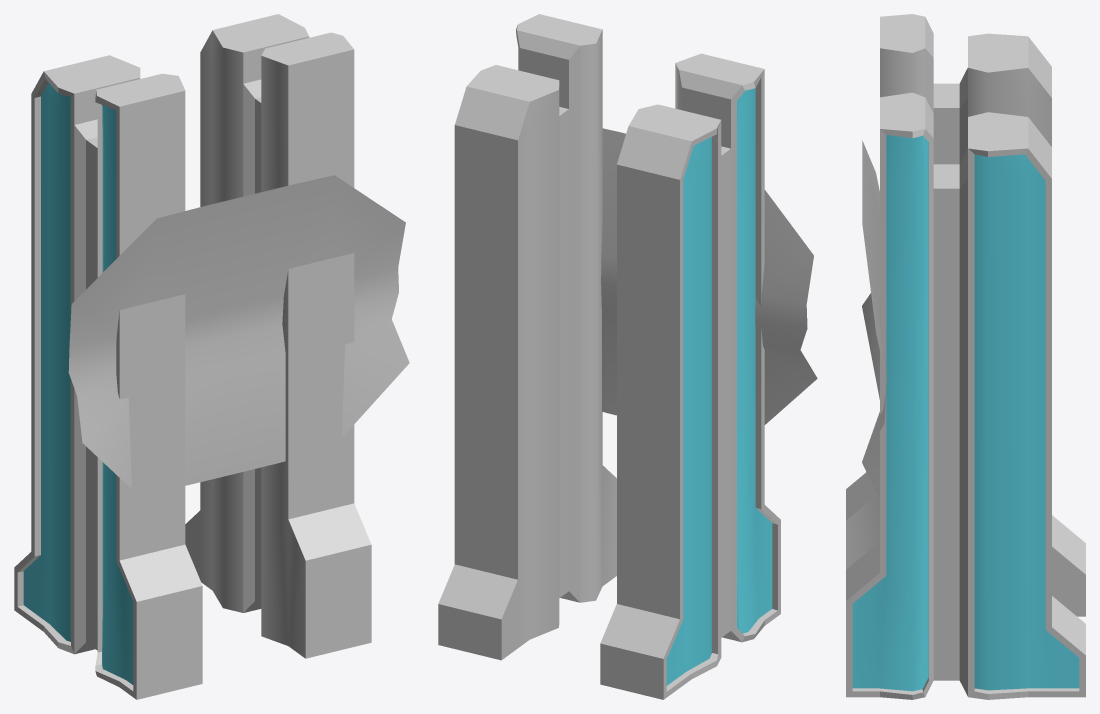
Rendered from Mod_BackPlate_Idol3.fbx.
The picture shows the model from 3 angles, left to right: view 1: azimuth 30°, elevation 25°; view 2: azimuth 150°, elevation 25°; view 3: azimuth 270°, elevation 25°; orthographic projection. The views are drawn at different scales.
Parts seen in each view (by area): view 1: Mod_BackPlate_Idol3; view 2: Mod_BackPlate_Idol3; view 3: Mod_BackPlate_Idol3.
Part boxes in pixels (bbox=[...]): Mod_BackPlate_Idol3: bbox=[14, 14, 409, 699]; Mod_BackPlate_Idol3: bbox=[438, 14, 817, 699]; Mod_BackPlate_Idol3: bbox=[846, 14, 1085, 699].
Size of the model in its own units: 326 by 542 by 207.
